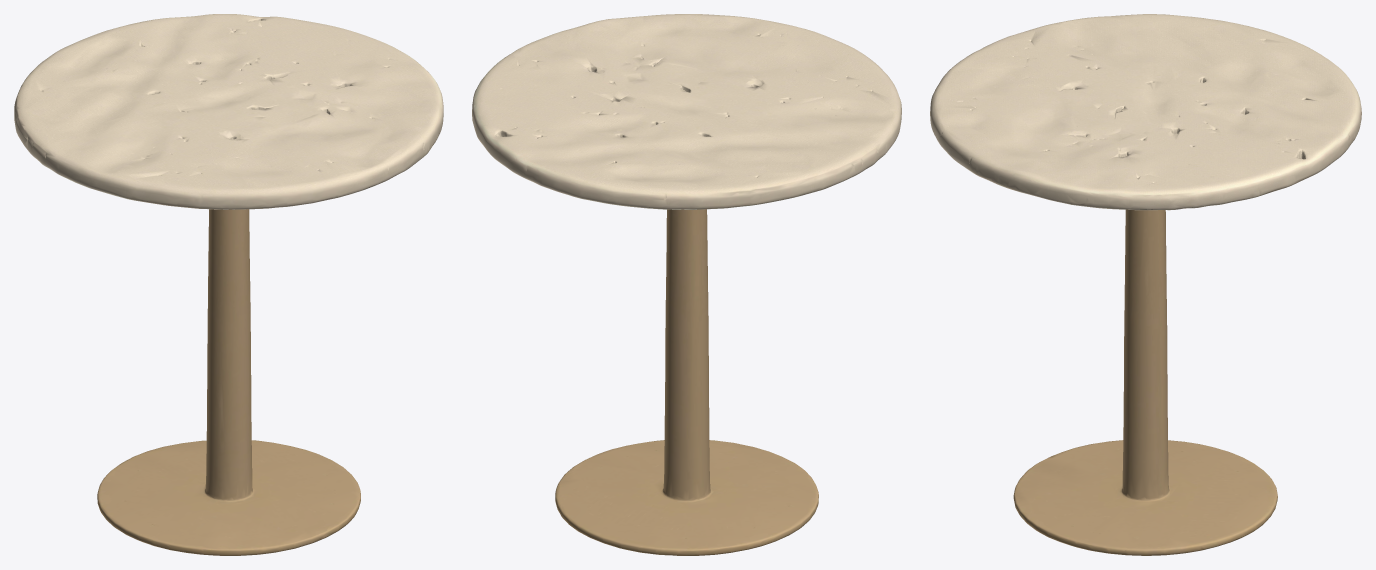
Rendered from cafetable.glb.
3 views of the same model, side by side, from view 1: azimuth 30°, elevation 25°; view 2: azimuth 150°, elevation 25°; view 3: azimuth 270°, elevation 25° (orthographic).
Parts seen in each view (by area): view 1: tripo_node_3c3d4659-8a66-43ce-8b4d-4d35e86db970; view 2: tripo_node_3c3d4659-8a66-43ce-8b4d-4d35e86db970; view 3: tripo_node_3c3d4659-8a66-43ce-8b4d-4d35e86db970.
Part boxes in pixels (x1=…): tripo_node_3c3d4659-8a66-43ce-8b4d-4d35e86db970: x1=14, y1=14, x2=443, y2=555; tripo_node_3c3d4659-8a66-43ce-8b4d-4d35e86db970: x1=472, y1=14, x2=901, y2=555; tripo_node_3c3d4659-8a66-43ce-8b4d-4d35e86db970: x1=930, y1=14, x2=1361, y2=555.
Bounding box in the file's own units: 0.636 × 0.6499 × 0.6353.
1 material, 1 textured.
